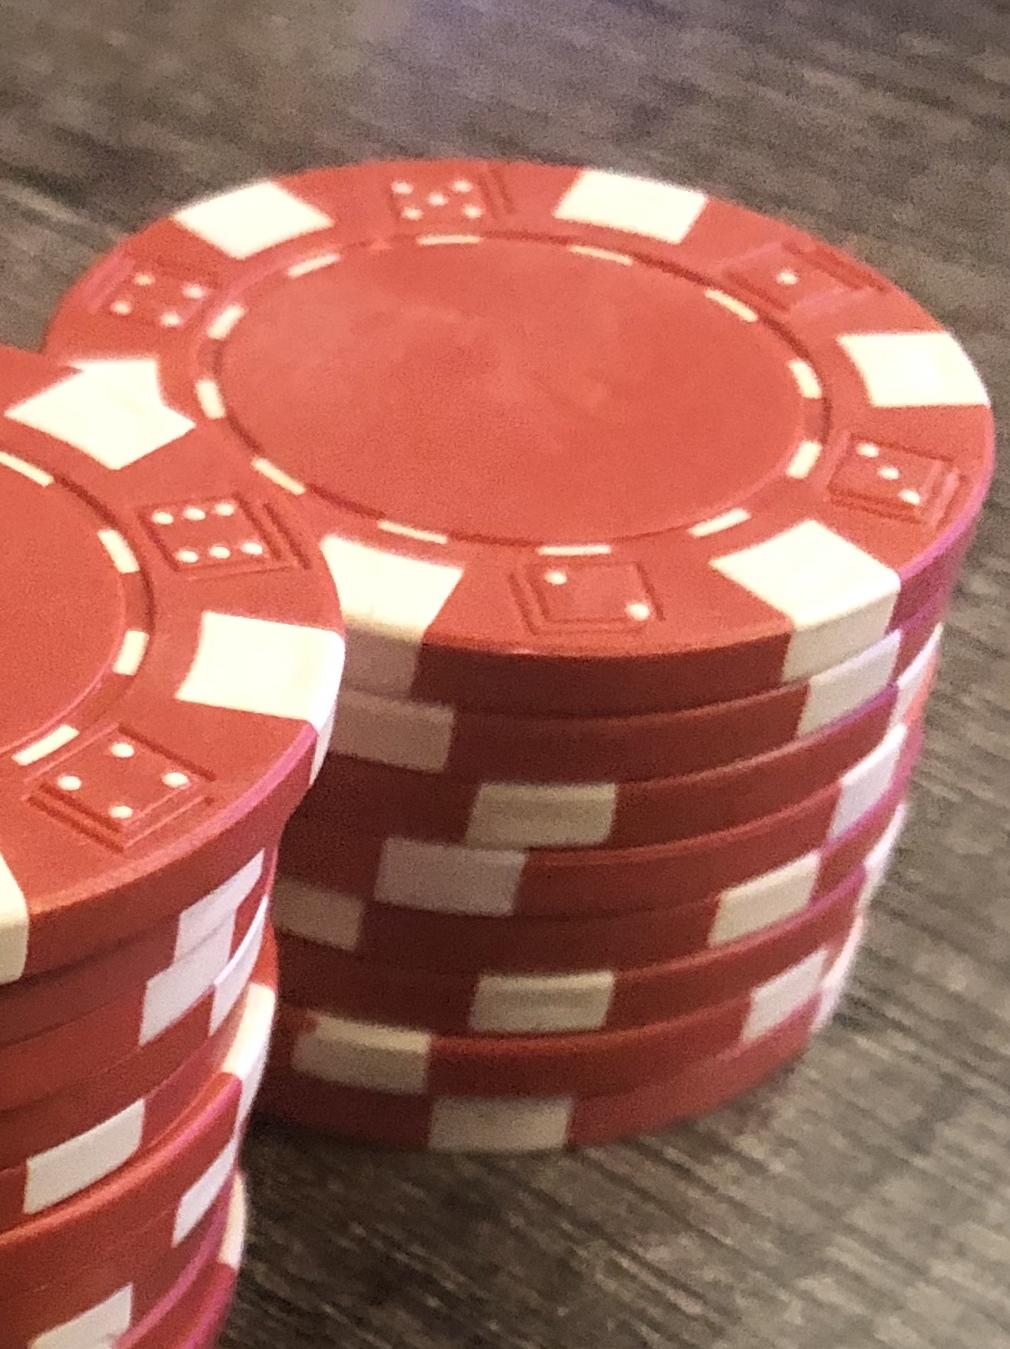Chip: (1, 1, 1010, 1349)
